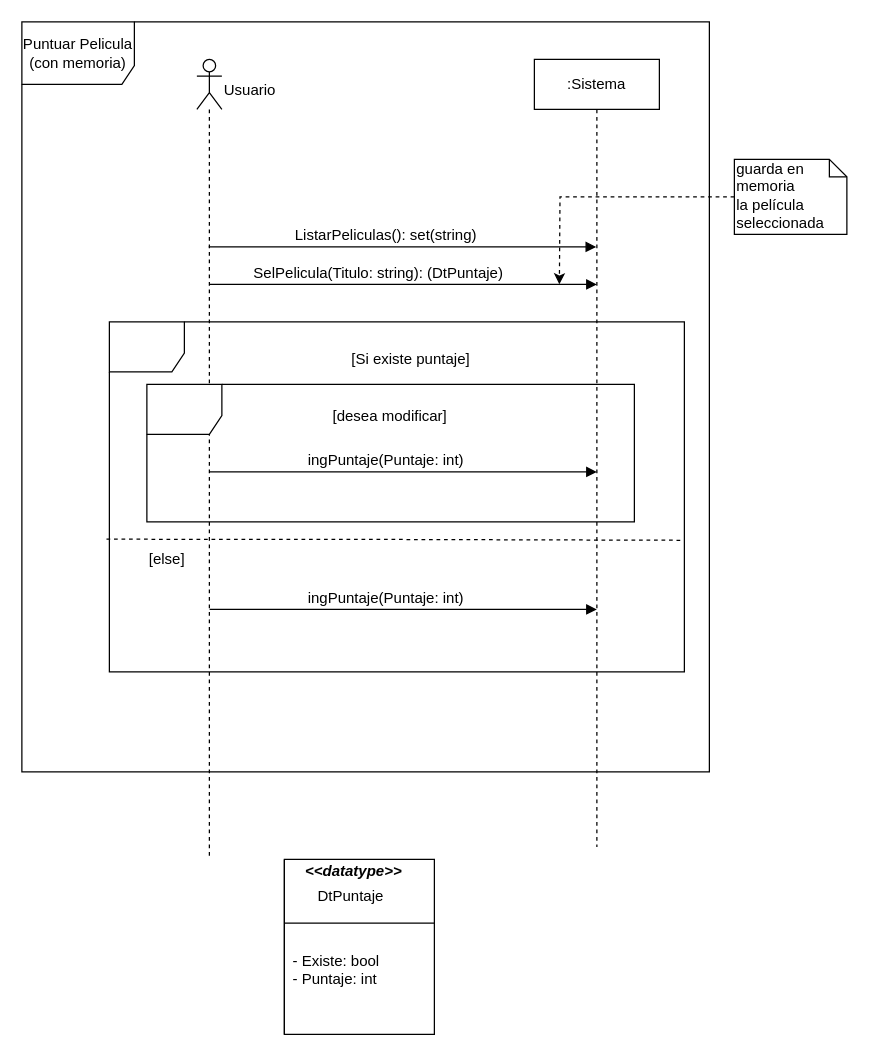
Some shapes in this 869 by 1056 pixel diagram are drawn without their labels. The shapes that lost their labels are listed below. From the top down, each one's box as (x1, y1, x2, y2) in pixels, then its label:
(146, 383, 634, 522): opt
(108, 321, 684, 672): alt
